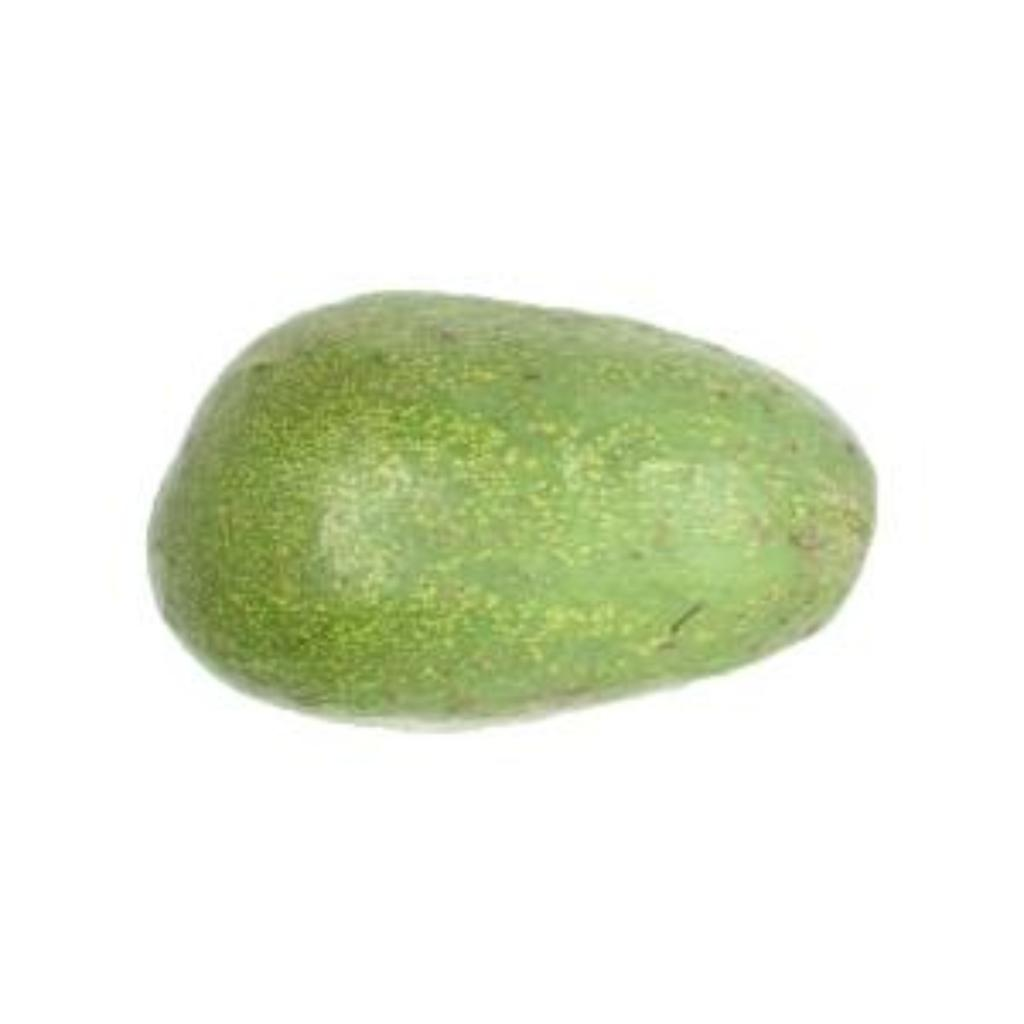cercospora: (144, 246, 898, 734)
